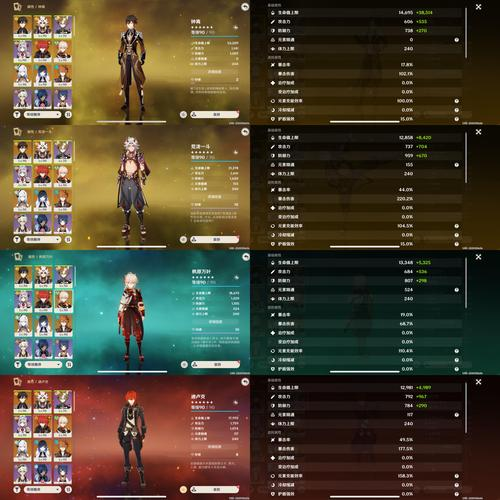夜兰: (35, 317, 53, 337), (33, 64, 50, 85), (34, 192, 51, 213), (34, 441, 51, 462)
